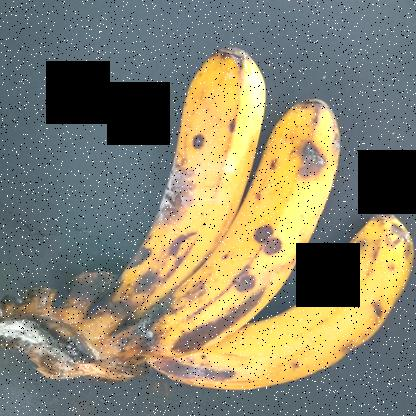overripe: (113, 95, 348, 359), (92, 37, 274, 314), (160, 205, 415, 395)
rotten: (132, 144, 203, 250)
